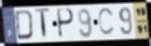9: (77, 7, 94, 39), (118, 6, 134, 37)
C: (97, 7, 116, 38)
D: (14, 9, 34, 41)
P: (57, 8, 76, 40)
T: (34, 7, 51, 42)
